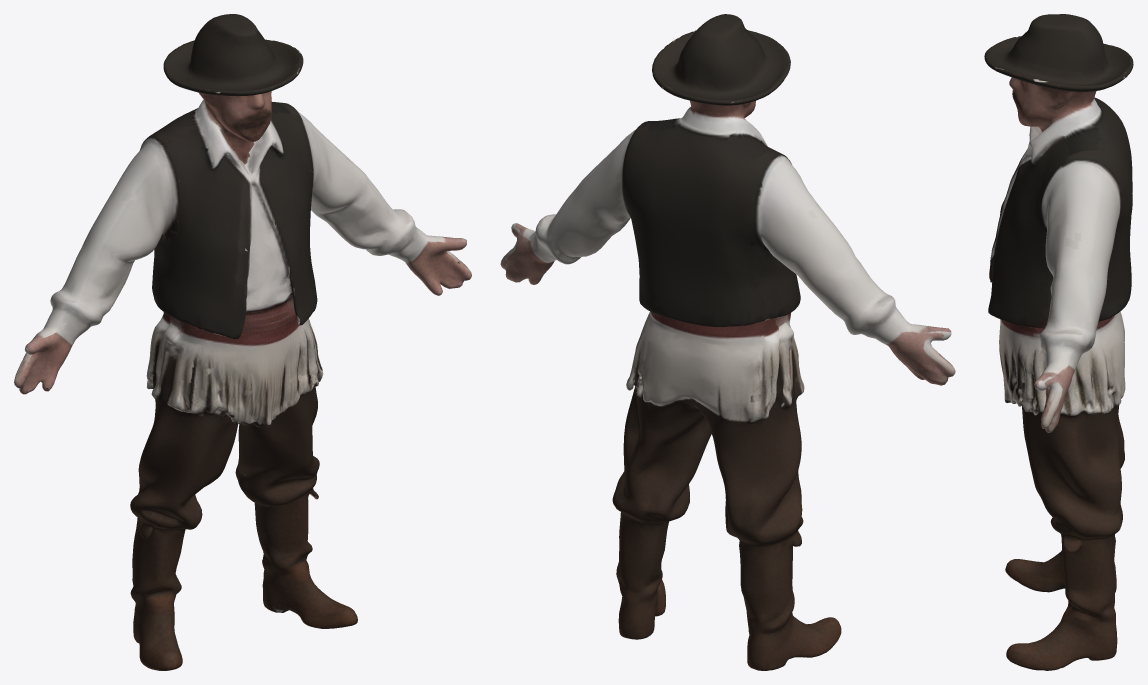
The model's file is gaucho_rig.glb.
3 renders of one model, left to right at view 1: azimuth 30°, elevation 25°; view 2: azimuth 150°, elevation 25°; view 3: azimuth 270°, elevation 25°, orthographic.
Visible parts, largest first — view 1: temp_mesh.ply; view 2: temp_mesh.ply; view 3: temp_mesh.ply.
Part boxes in pixels (bbox=[...]): temp_mesh.ply: bbox=[14, 14, 471, 670]; temp_mesh.ply: bbox=[500, 14, 955, 670]; temp_mesh.ply: bbox=[984, 14, 1133, 670].
Size of the model in its own units: 1.37 by 1.76 by 0.3942.
Materials: 1 (1 with a texture image).
